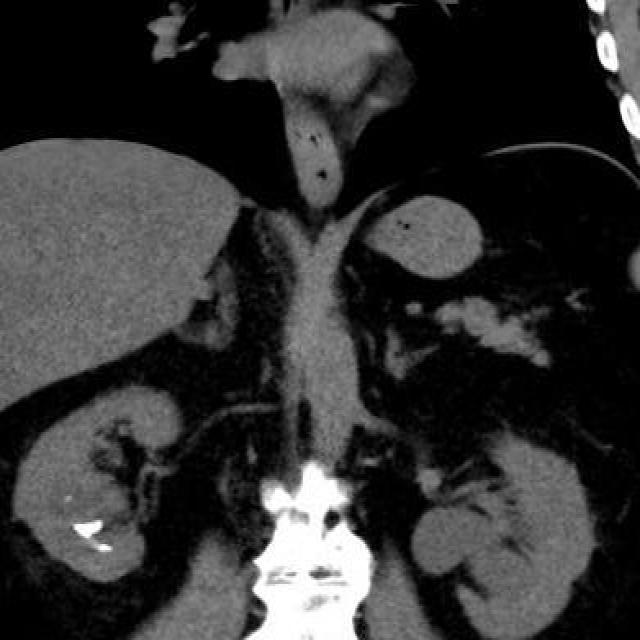Tas_Var: (70, 518, 110, 540), (97, 540, 116, 554)
